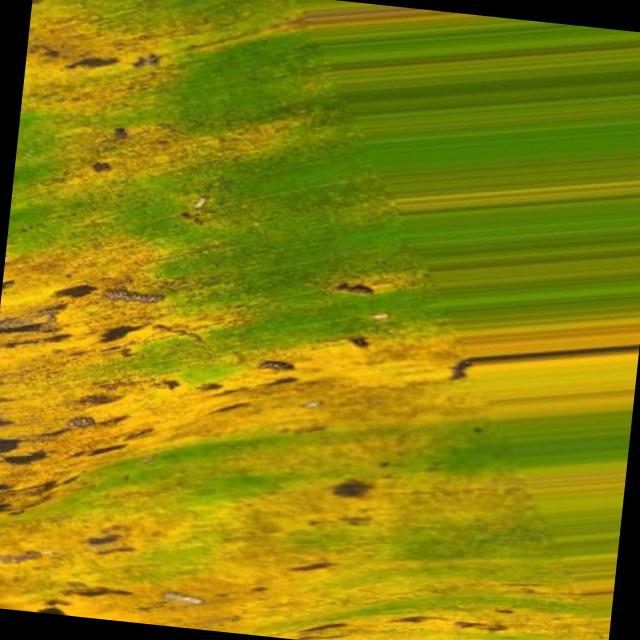Banana_Black_Sigatoka: (0, 18, 235, 582), (190, 334, 549, 640)
